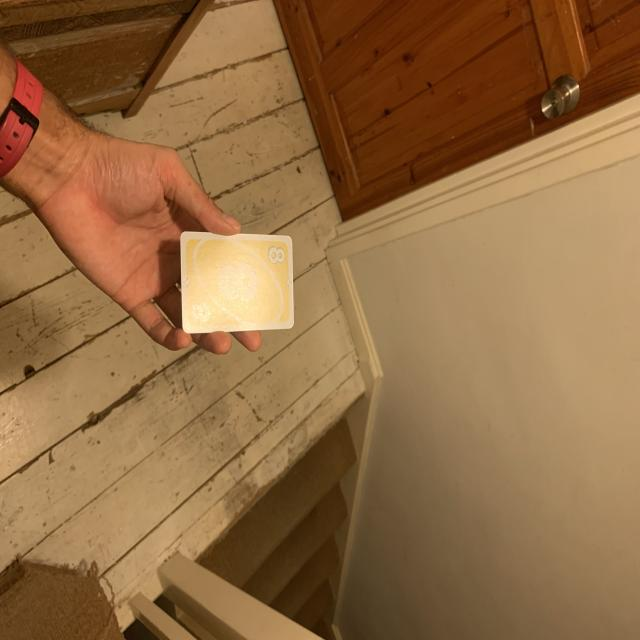lyellow-8: (264, 241, 288, 268)
